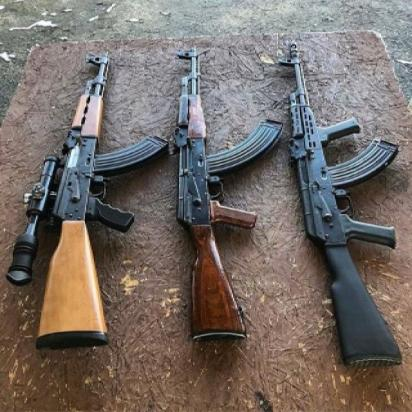Gun: (6, 36, 154, 350), (280, 34, 410, 376), (164, 26, 283, 356)
